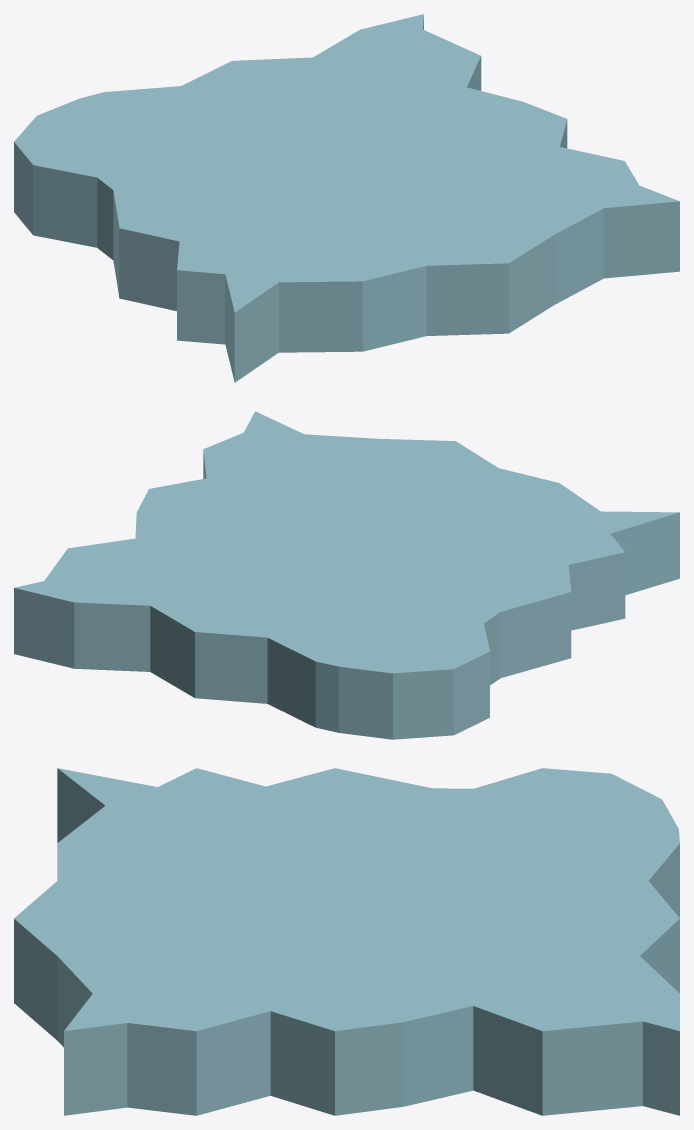
The model's file is ice_floe2(2).fbx.
The picture shows the model from 3 angles, top to bottom: view 1: azimuth 30°, elevation 25°; view 2: azimuth 150°, elevation 25°; view 3: azimuth 270°, elevation 25°; orthographic projection. The views are drawn at different scales.
Parts seen in each view (by area): view 1: Cube; view 2: Cube; view 3: Cube.
Part boxes in pixels (x1,y1,x2,y2): Cube: (14,14,679,382); Cube: (14,411,679,739); Cube: (14,768,679,1115).
Size of the model in its own units: 2 by 0.3 by 2.14.
